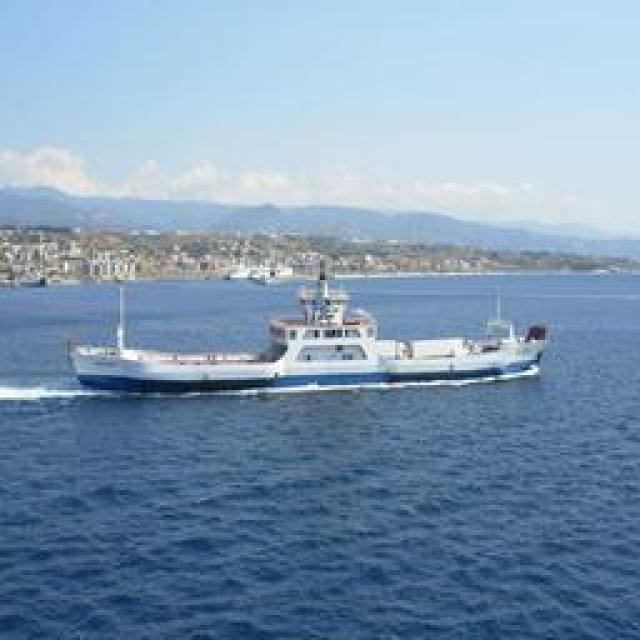ship2: (69, 260, 551, 395)
